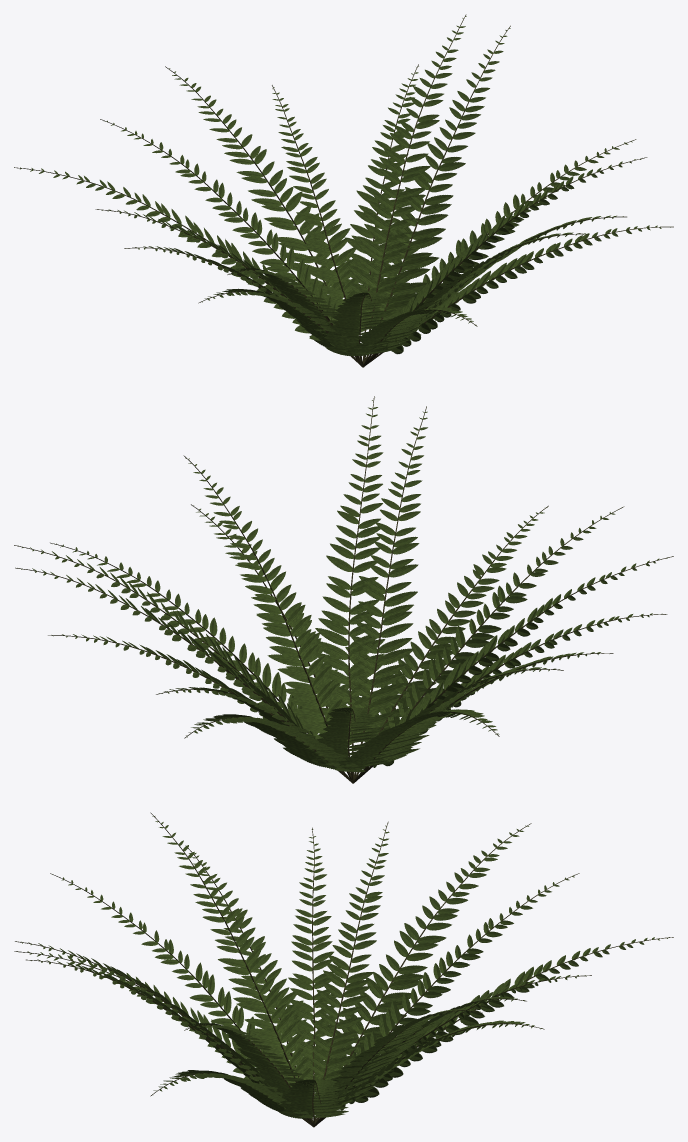
The model's file is lady_fern_v01.fbx.
3 renders of one model, top to bottom at view 1: azimuth 30°, elevation 25°; view 2: azimuth 150°, elevation 25°; view 3: azimuth 270°, elevation 25°, orthographic. The views are drawn at different scales.
Parts seen in each view (by area): view 1: lady_fern_v01; view 2: lady_fern_v01; view 3: lady_fern_v01.
Part boxes in pixels (x1,y1,x2,y2): lady_fern_v01: [14, 14, 673, 367]; lady_fern_v01: [14, 396, 673, 783]; lady_fern_v01: [14, 812, 673, 1127].
Bounding box in the file's own units: 111 × 46.21 × 121.
2 materials, 2 textured.
